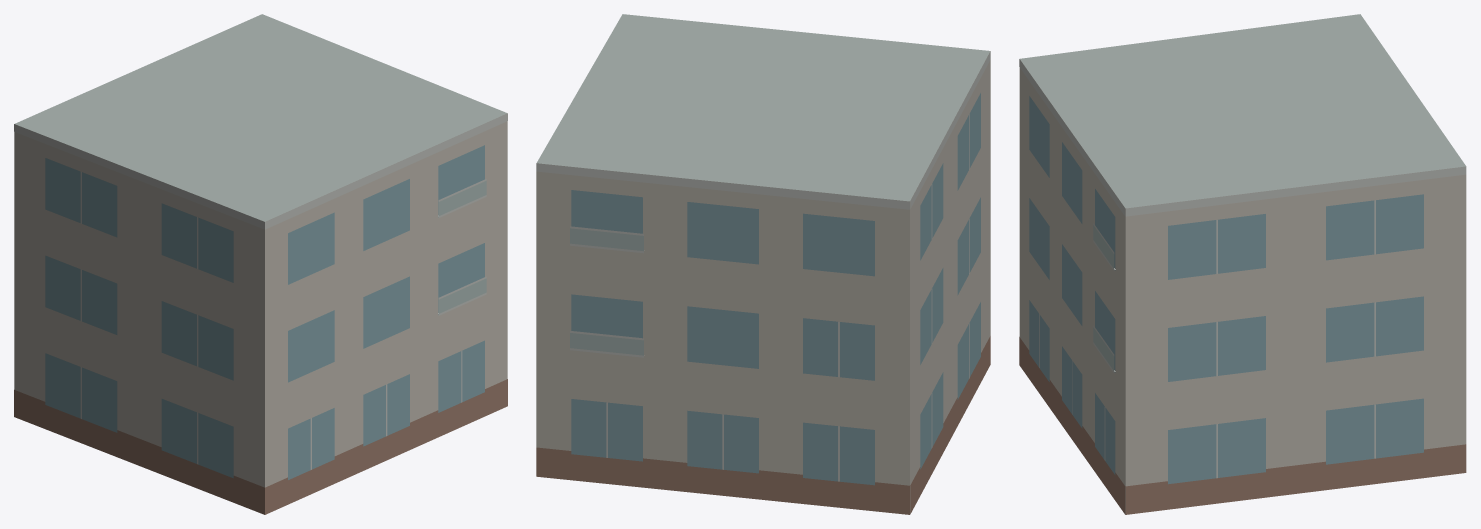
File: survey-upis-32614661.glb
3 renders of one model, left to right at view 1: azimuth 30°, elevation 25°; view 2: azimuth 150°, elevation 25°; view 3: azimuth 270°, elevation 25°, orthographic. The views are drawn at different scales.
Visible parts, largest first — view 1: survey-upis-32614661.tmp; view 2: survey-upis-32614661.tmp; view 3: survey-upis-32614661.tmp.
Part boxes in pixels (x1,y1,x2,y2): survey-upis-32614661.tmp: (14, 14, 507, 514); survey-upis-32614661.tmp: (536, 14, 990, 514); survey-upis-32614661.tmp: (1019, 14, 1466, 514).
Size of the model in its own units: 12.47 by 9.15 by 12.11.
